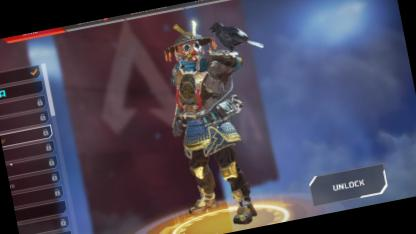Target: (156, 25, 250, 209)
